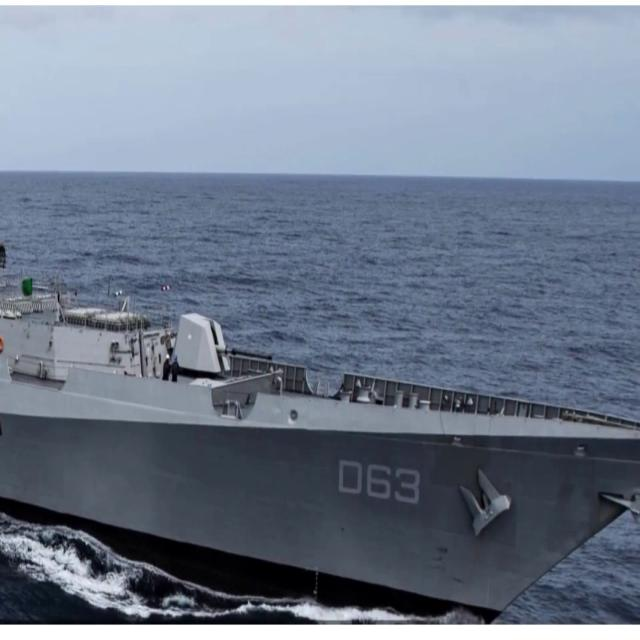OCR: (336, 452, 422, 513)
